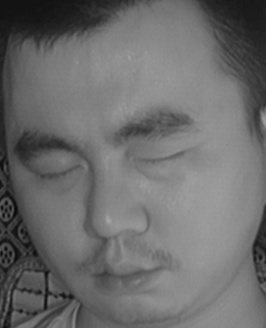blink: (135, 144, 190, 178), (32, 156, 82, 193)
mouth: (88, 248, 165, 298)
